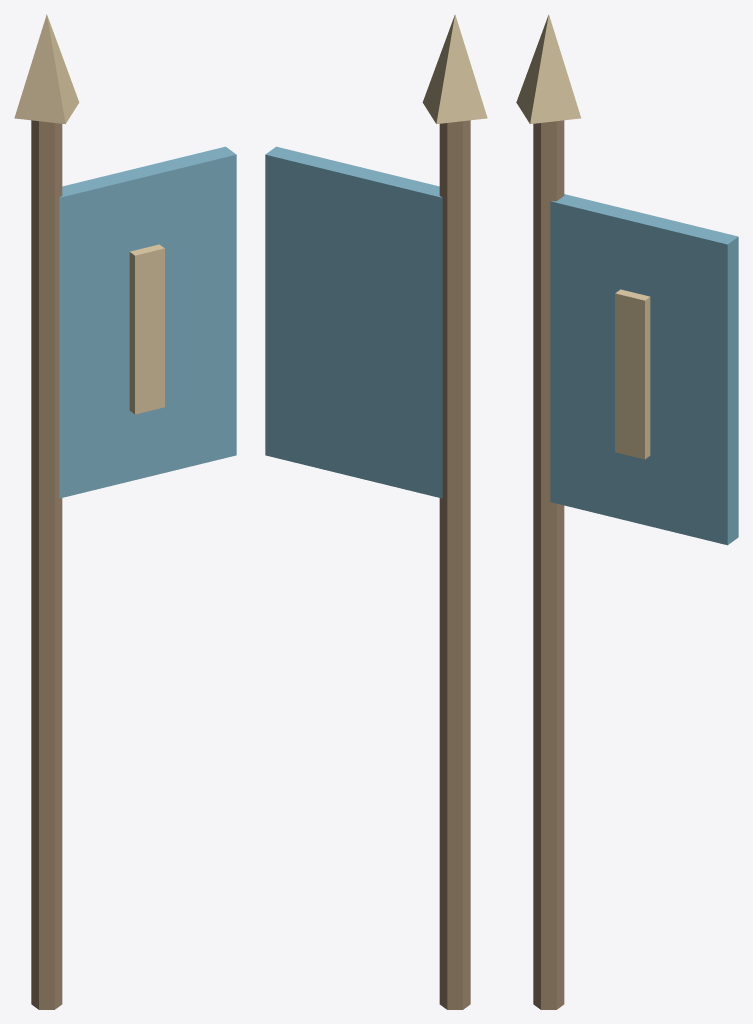
Rendered from human_banner.glb.
3 views of the same model, side by side, from view 1: azimuth 30°, elevation 25°; view 2: azimuth 150°, elevation 25°; view 3: azimuth 330°, elevation 25° (orthographic).
Parts seen in each view (by area): view 1: human_banner_MAT_blue, human_banner_MAT_wood, human_banner_MAT_gold; view 2: human_banner_MAT_blue, human_banner_MAT_wood, human_banner_MAT_gold; view 3: human_banner_MAT_blue, human_banner_MAT_wood, human_banner_MAT_gold.
Boxes of the visible parts, x1,y1,x2,y2 form: human_banner_MAT_blue: (59,146,236,498); human_banner_MAT_wood: (31,120,62,1009); human_banner_MAT_gold: (14,14,164,414); human_banner_MAT_blue: (265,146,442,498); human_banner_MAT_wood: (439,120,470,1009); human_banner_MAT_gold: (422,14,487,124); human_banner_MAT_blue: (550,194,738,545); human_banner_MAT_wood: (533,120,564,1009); human_banner_MAT_gold: (516,14,650,459).
Bounding box in the file's own units: 0.4 × 1.74 × 0.12.
